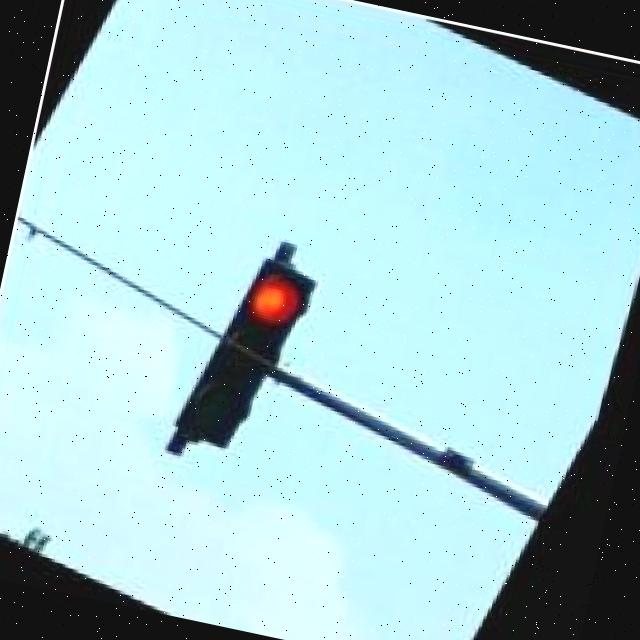red_light: (168, 238, 334, 468)
